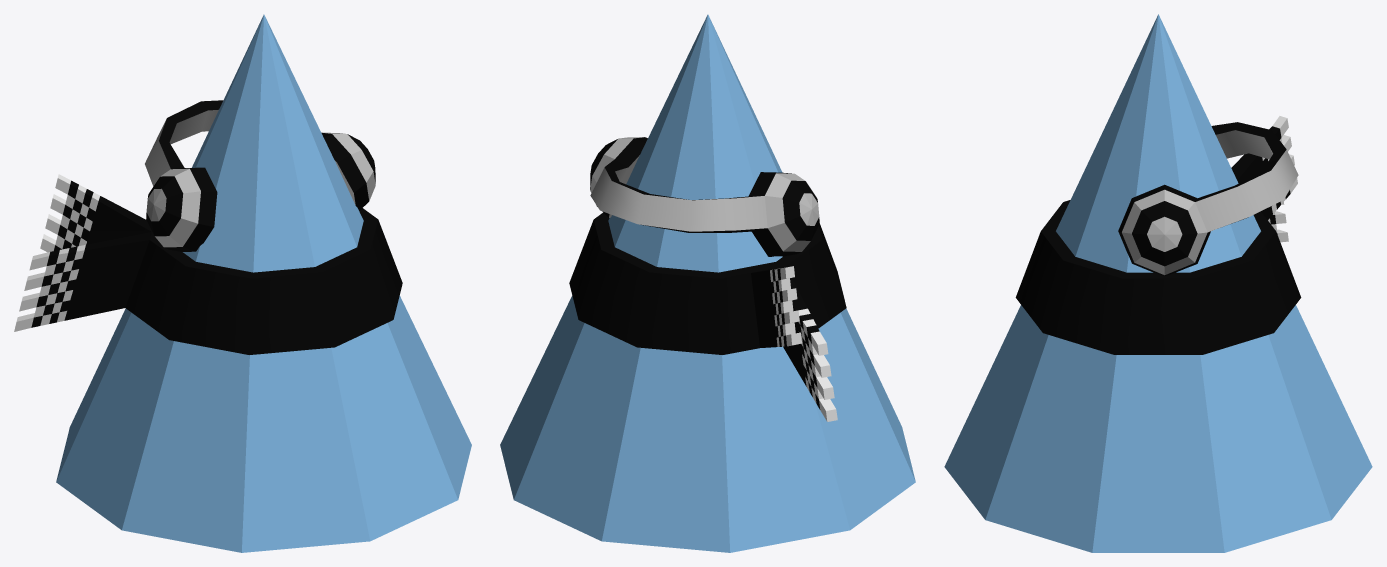
File: Scarf_Earmuff_Villager.fbx
3 renders of one model, left to right at view 1: azimuth 30°, elevation 25°; view 2: azimuth 150°, elevation 25°; view 3: azimuth 270°, elevation 25°, orthographic.
Parts seen in each view (by area): view 1: Scarf_Earmuff_Villager, Scarf5, earmuffs1; view 2: Scarf_Earmuff_Villager, Scarf5, earmuffs1; view 3: Scarf_Earmuff_Villager, Scarf5, earmuffs1.
Part boxes in pixels (left/top/right/bottom): Scarf_Earmuff_Villager: left=56, top=14, right=471, bottom=552; Scarf5: left=14, top=174, right=402, bottom=354; earmuffs1: left=145, top=100, right=375, bottom=251; Scarf_Earmuff_Villager: left=500, top=14, right=915, bottom=552; Scarf5: left=569, top=212, right=846, bottom=421; earmuffs1: left=590, top=137, right=819, bottom=256; Scarf_Earmuff_Villager: left=944, top=14, right=1372, bottom=552; Scarf5: left=1015, top=116, right=1301, bottom=354; earmuffs1: left=1118, top=122, right=1298, bottom=275.
Bounding box in the file's own units: 6.05 × 7.12 × 6.1.
